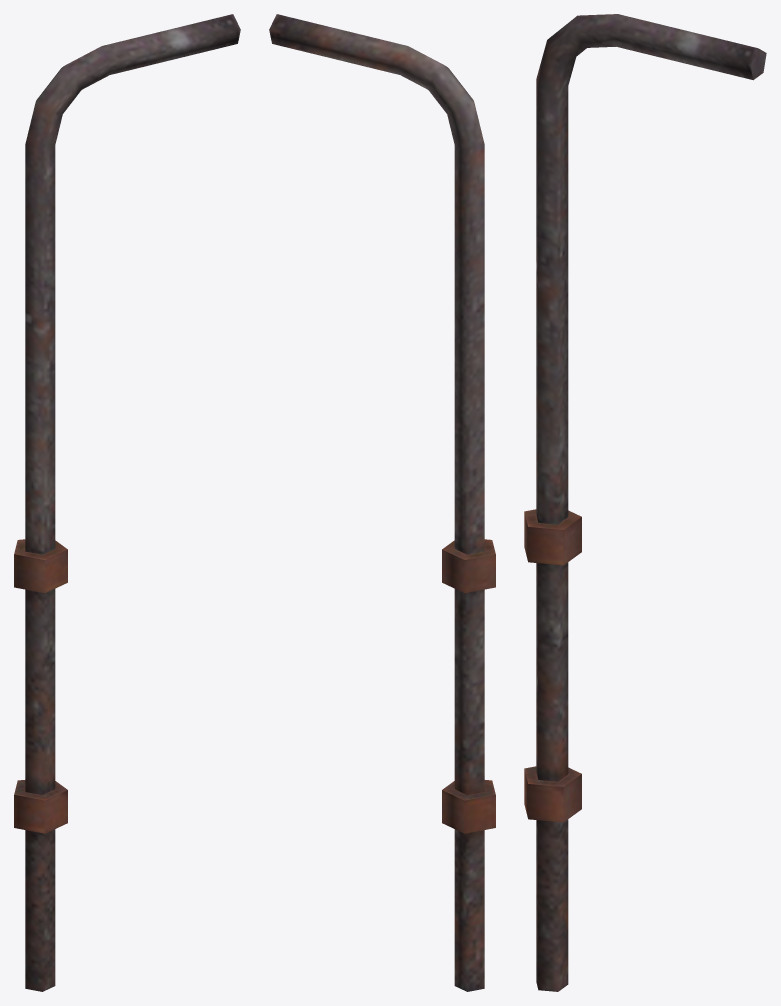
Rendered from BulbPole.FBX.
3 views of the same model, side by side, from view 1: azimuth 30°, elevation 25°; view 2: azimuth 150°, elevation 25°; view 3: azimuth 330°, elevation 25° (orthographic). The views are drawn at different scales.
Parts seen in each view (by area): view 1: BulbPole; view 2: BulbPole; view 3: BulbPole.
Part boxes in pixels (x1,y1,x2,y2): BulbPole: (14,14,240,991); BulbPole: (269,14,495,991); BulbPole: (524,14,766,991).
Bounding box in the file's own units: 33.26 × 134 × 7.24.
